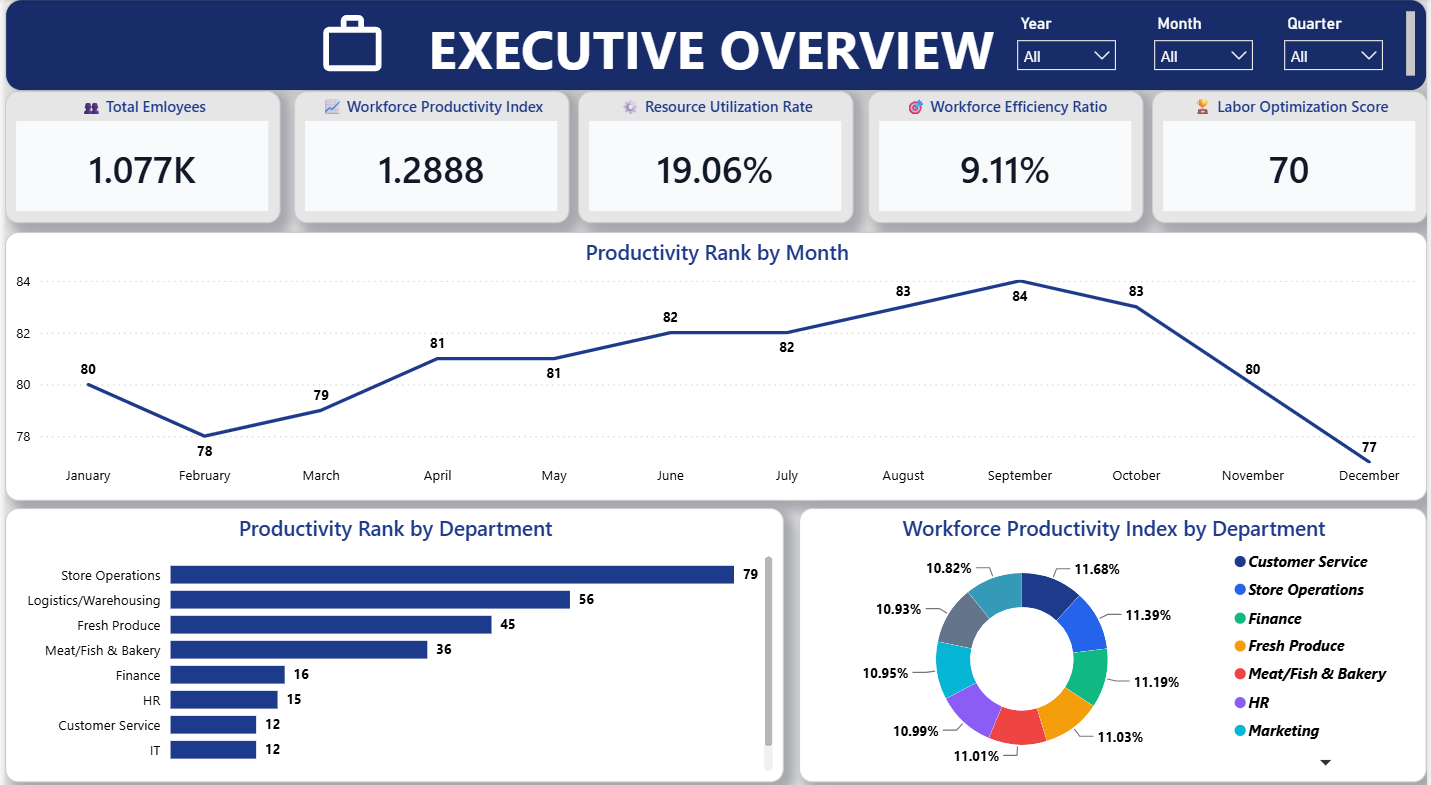

The page's visual inventory and layout, read from the dashboard file:
{"tool":"powerbi","page":{"name":"EXECUTIVE OVERVIEW","canvas":[1280,720],"ordinal":0},"visuals":[{"type":"textbox","box":[0,0,1279.8,82.8],"z":0},{"type":"cardVisual","title":"👥 Total Emloyees","fields":{"Data":["Dim_Date.Total Employees"]},"box":[0,82.8,247.5,118.8],"z":1000},{"type":"cardVisual","title":"📈 Workforce Productivity Index","fields":{"Data":["Dim_Date.Workforce Productivity Index"]},"box":[260.1,82.8,247.5,118.8],"z":2000},{"type":"cardVisual","title":"⚙️ Resource Utilization Rate","fields":{"Data":["Dim_Date.Resource Utilization Rate"]},"box":[515.7,82.8,247.5,118.8],"z":3000},{"type":"cardVisual","title":"🎯 Workforce Efficiency Ratio","fields":{"Data":["Dim_Date.Workforce Efficiency Ratio"]},"box":[776.7,82.8,247.5,118.8],"z":4000},{"type":"cardVisual","title":"🏆 Labor Optimization Score","fields":{"Data":["Dim_Date.Labor Optimization Score"]},"box":[1032.3,82.8,247.5,118.8],"z":5000},{"type":"lineChart","fields":{"Category":["Dim_Date.Date.Variation.Date Hierarchy.Month"],"Y":["Dim_Date.Productivity Rank"]},"box":[0,209.7,1279.8,242.1],"z":6000},{"type":"barChart","fields":{"Category":["Dim_Employee.Department"],"Y":["Dim_Date.Productivity Rank"]},"box":[0,458.1,701.1,246.6],"z":7000},{"type":"donutChart","fields":{"Category":["Dim_Employee.Department"],"Y":["Dim_Date.Workforce Productivity Index"]},"box":[714.6,458.1,565.2,246.6],"z":8000},{"type":"slicer","fields":{"Values":["Dim_Date.Date.Variation.Date Hierarchy.Year"]},"box":[900.9,9,108.9,63.9],"z":9000},{"type":"slicer","fields":{"Values":["Dim_Date.Date.Variation.Date Hierarchy.Quarter"]},"box":[1141.2,9,108.9,63.9],"z":10000},{"type":"slicer","fields":{"Values":["Dim_Date.Date.Variation.Date Hierarchy.Month"]},"box":[1024.2,9,108.9,63.9],"z":11000},{"type":"image","box":[241.2,9,143.1,63.9],"z":12000}]}

Visuals, with their boxes in screenshot pixels (x1, y1, x2, y2), scaled from the page's 1280x720 canvas onto the 1431x785 screenshot:
textbox: x1=0, y1=0, x2=1430, y2=90
"👥 Total Emloyees" cardVisual: x1=0, y1=90, x2=277, y2=220
"📈 Workforce Productivity Index" cardVisual: x1=291, y1=90, x2=567, y2=220
"⚙️ Resource Utilization Rate" cardVisual: x1=577, y1=90, x2=853, y2=220
"🎯 Workforce Efficiency Ratio" cardVisual: x1=868, y1=90, x2=1145, y2=220
"🏆 Labor Optimization Score" cardVisual: x1=1154, y1=90, x2=1430, y2=220
lineChart - Dim_Date.Date.Variation.Date Hierarchy.Month x Dim_Date.Productivity Rank: x1=0, y1=229, x2=1430, y2=493
barChart - Dim_Employee.Department x Dim_Date.Productivity Rank: x1=0, y1=499, x2=784, y2=768
donutChart - Dim_Employee.Department x Dim_Date.Workforce Productivity Index: x1=799, y1=499, x2=1430, y2=768
slicer - Dim_Date.Date.Variation.Date Hierarchy.Year: x1=1007, y1=10, x2=1129, y2=79
slicer - Dim_Date.Date.Variation.Date Hierarchy.Quarter: x1=1276, y1=10, x2=1398, y2=79
slicer - Dim_Date.Date.Variation.Date Hierarchy.Month: x1=1145, y1=10, x2=1267, y2=79
image: x1=270, y1=10, x2=430, y2=79
